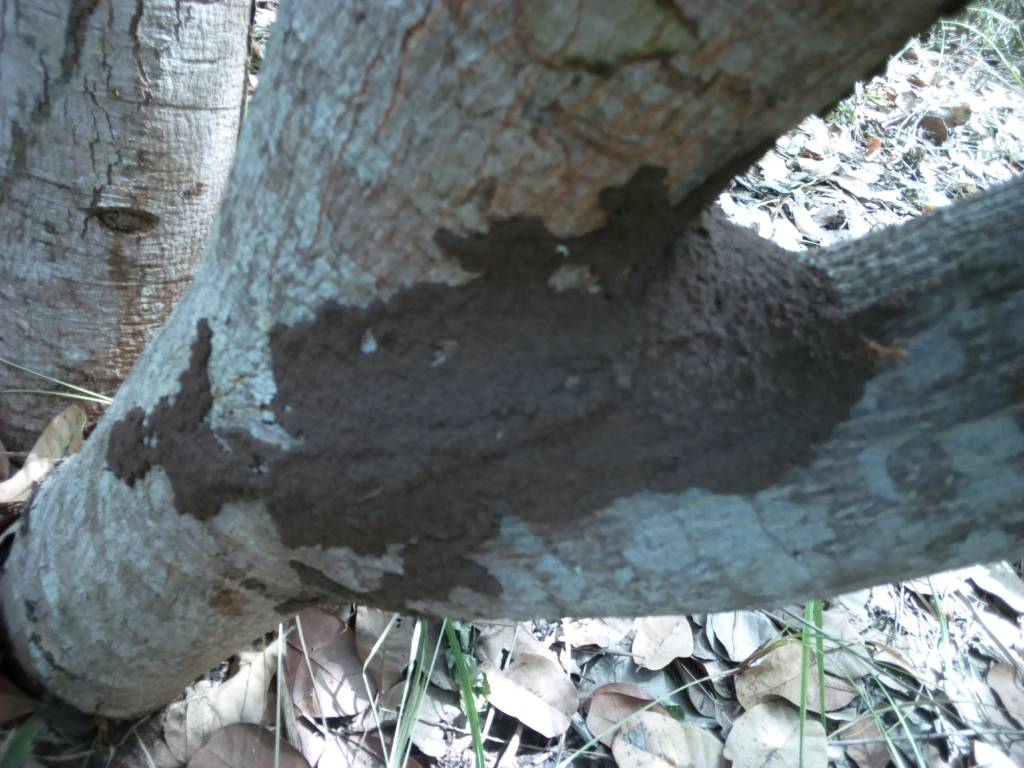Termites: (267, 240, 860, 583), (111, 335, 256, 512)
